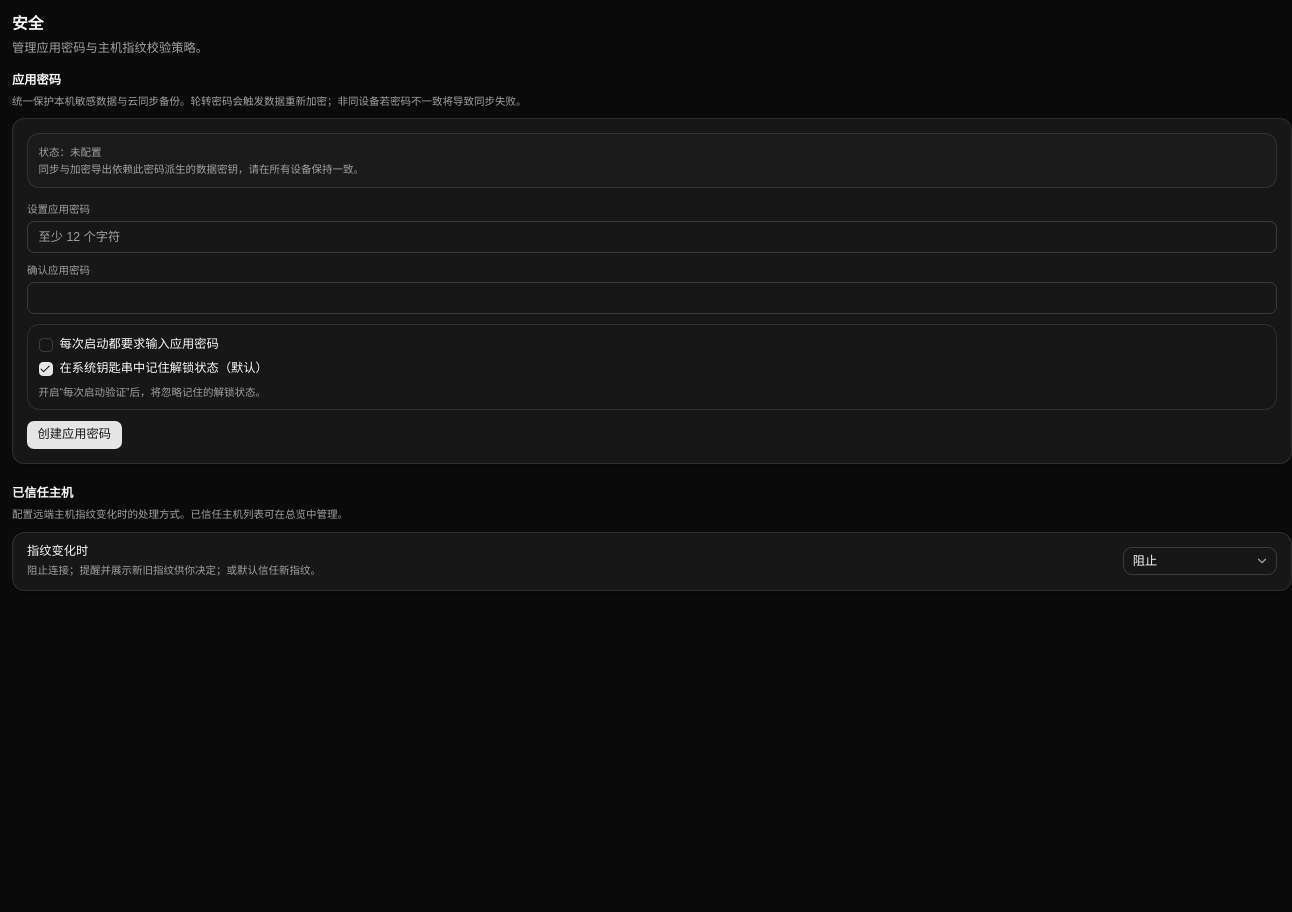
SecurityPanel › surfaces setup failures inline without toast
Check: the heading "应用密码" is shown, box [12,72,61,86]
In the password field named "设置应用密码": (652, 237) [27,221,1277,253], type "password-1234"
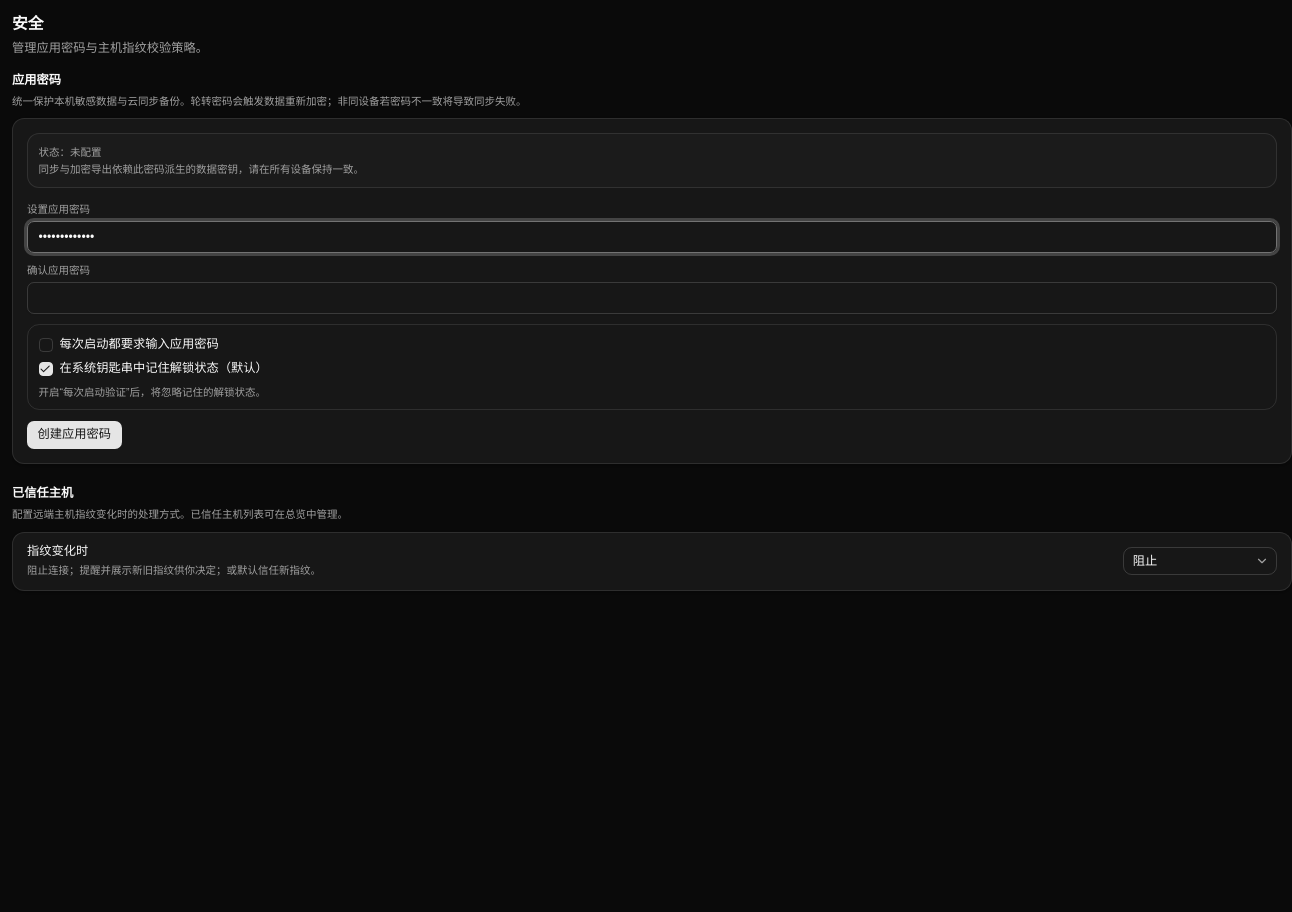
In the password field named "确认应用密码": (652, 298) [27,282,1277,314], type "password-1234"
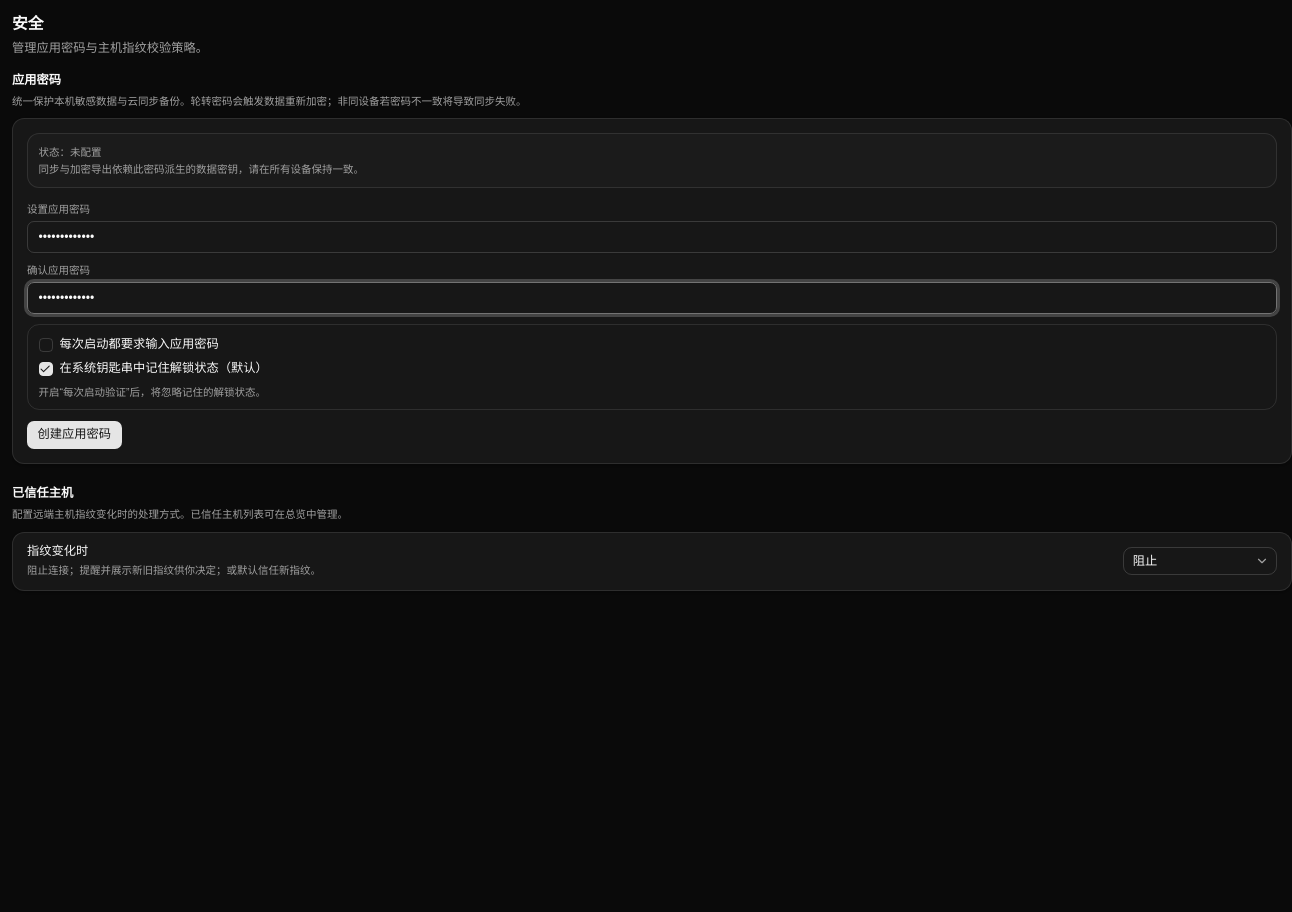
Click the button "创建应用密码": (74, 435) [27,421,122,449]
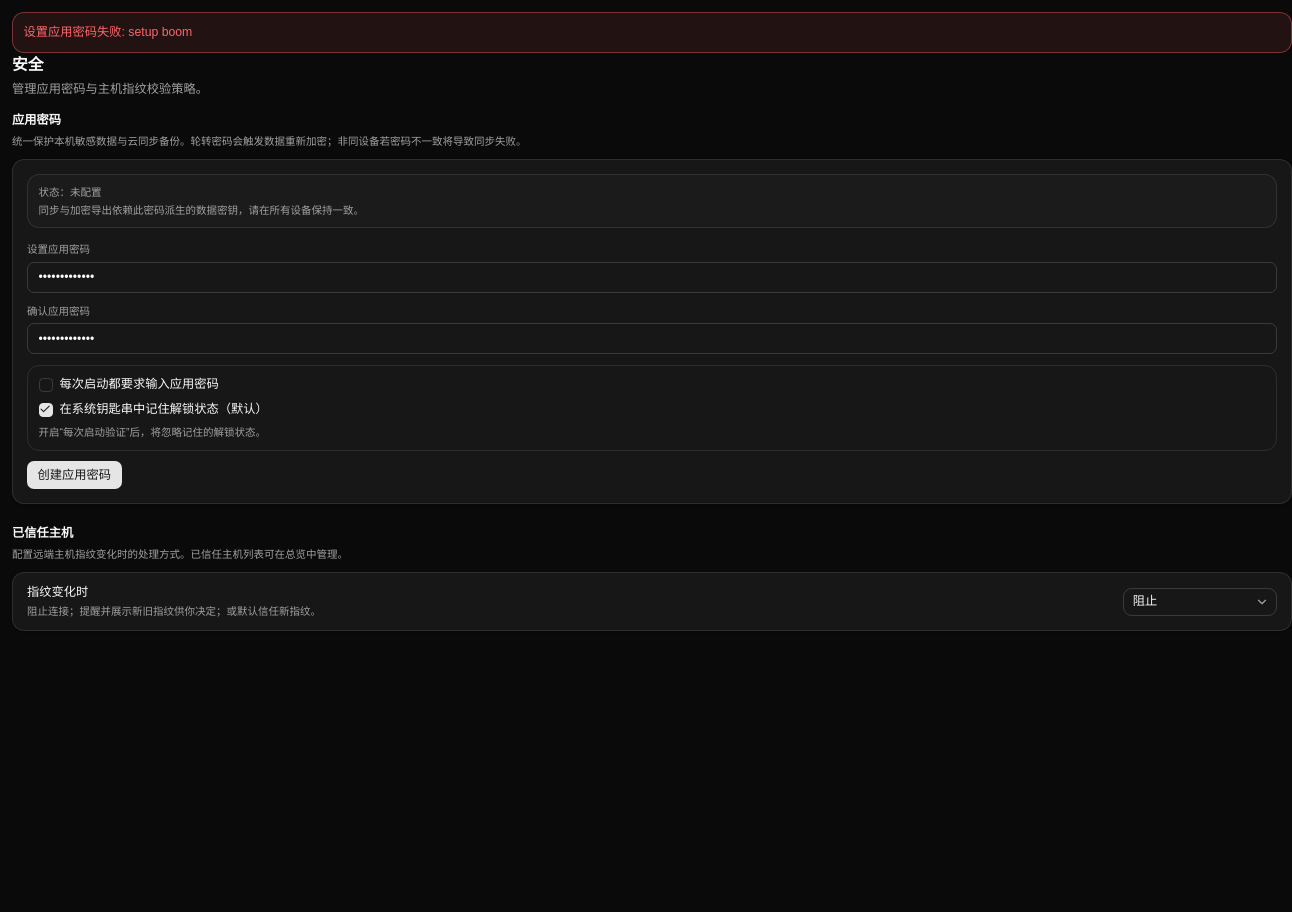
Check: the message reads "设置应用密码失败: setup boom", box [24,24,192,38]
